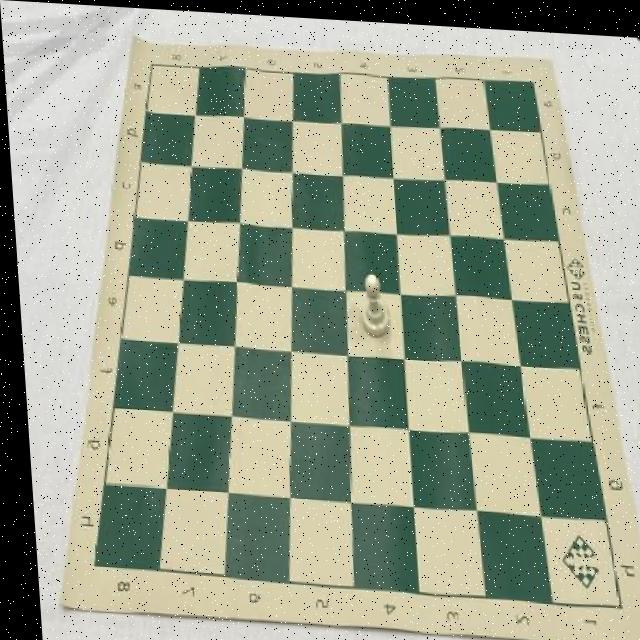white-knight: (354, 268, 388, 335)
